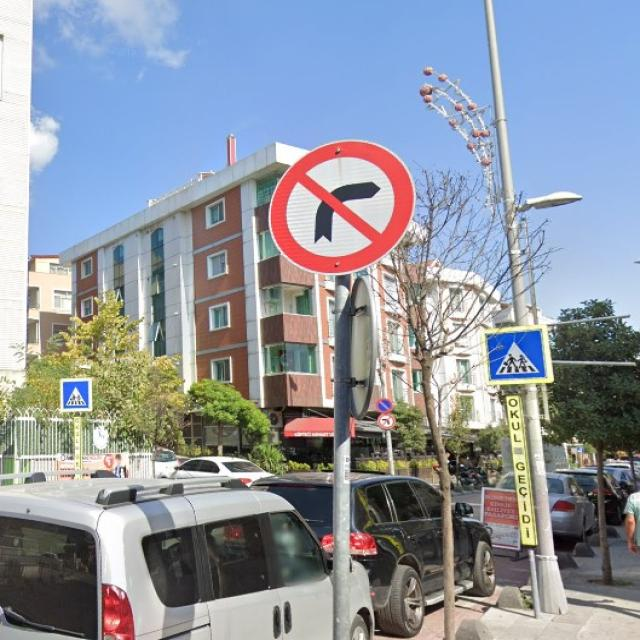parkyasak: (377, 399, 392, 412)
sagadonulmez: (267, 140, 415, 276)
soladonulmez: (378, 414, 394, 429)
